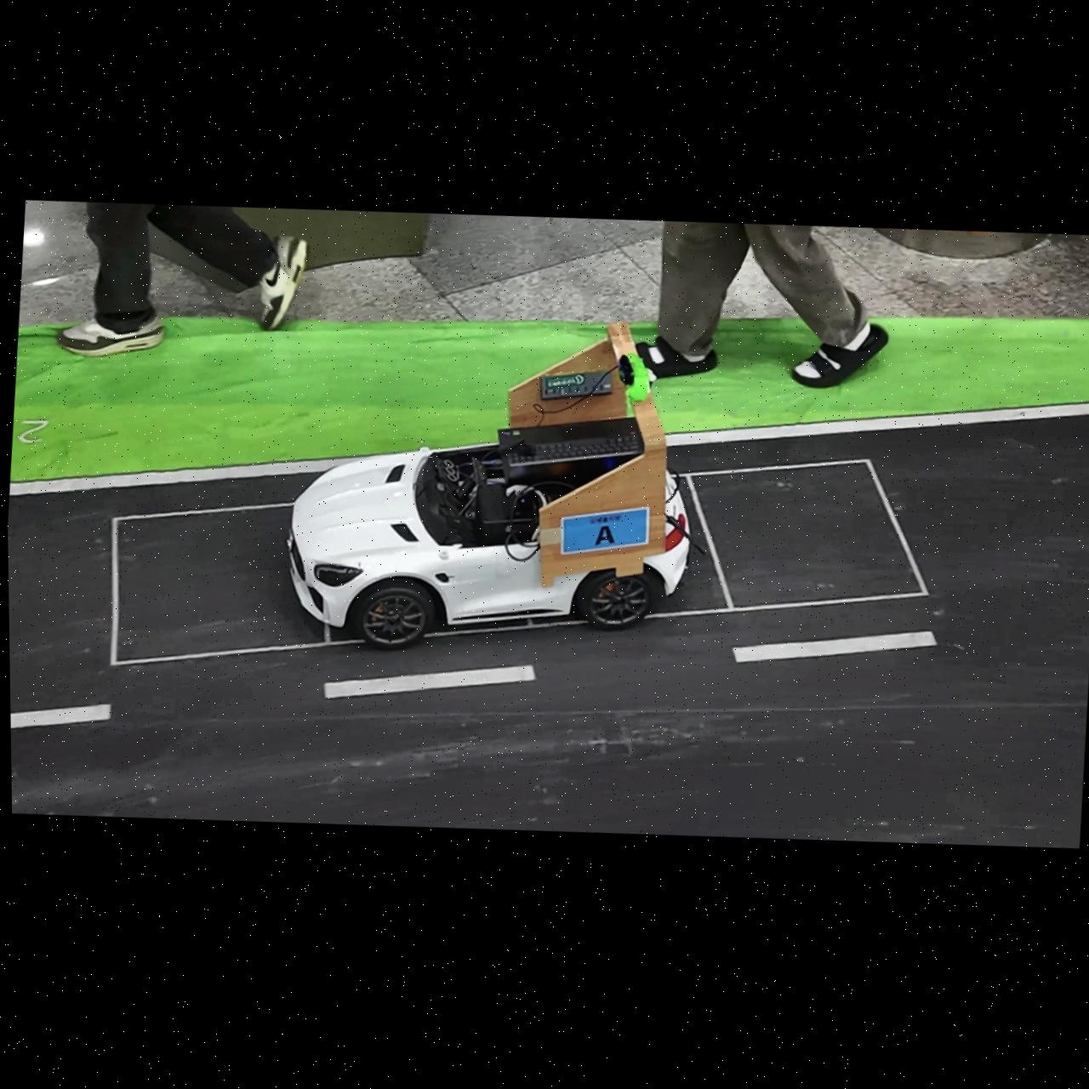broken_line: (324, 665, 535, 698), (732, 632, 937, 662), (11, 704, 112, 728)
